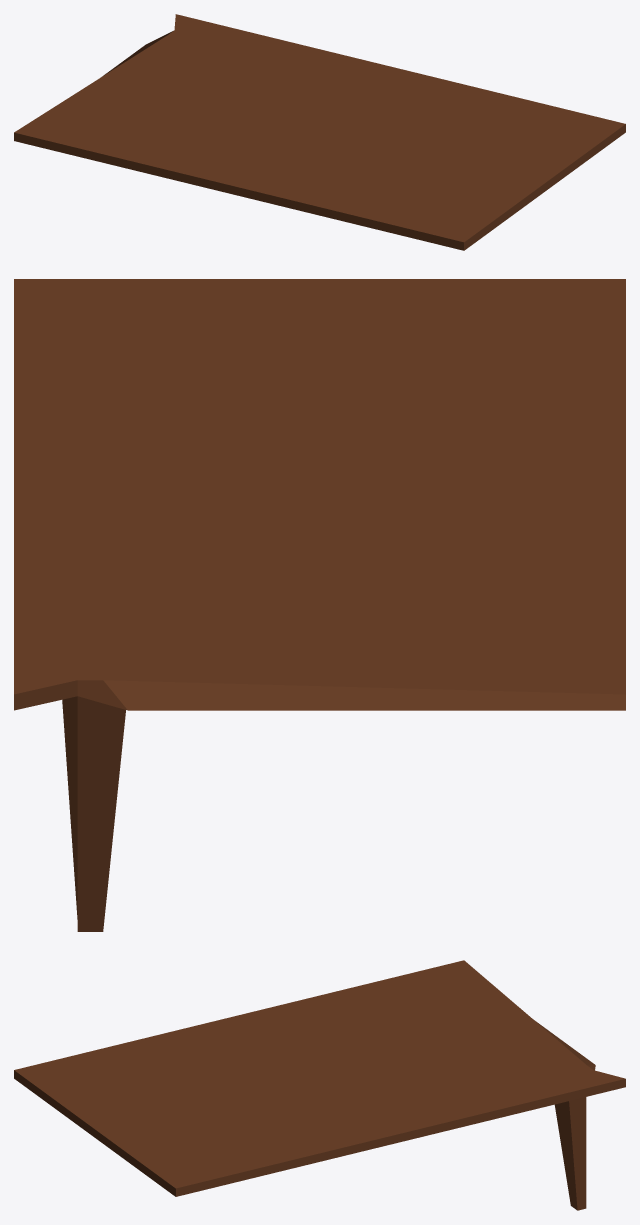
The model's file is tafel.glb.
The picture shows the model from 3 angles, top to bottom: view 1: azimuth 30°, elevation 25°; view 2: azimuth 150°, elevation 25°; view 3: azimuth 270°, elevation 25°; orthographic projection. The views are drawn at different scales.
Parts seen in each view (by area): view 1: Cube.021; view 2: Cube.021; view 3: Cube.021.
Part boxes in pixels (x1=…): Cube.021: x1=14, y1=14, x2=625, y2=250; Cube.021: x1=14, y1=279, x2=625, y2=931; Cube.021: x1=14, y1=960, x2=625, y2=1210.
Size of the model in its own units: 5.41 by 1.51 by 6.13.
